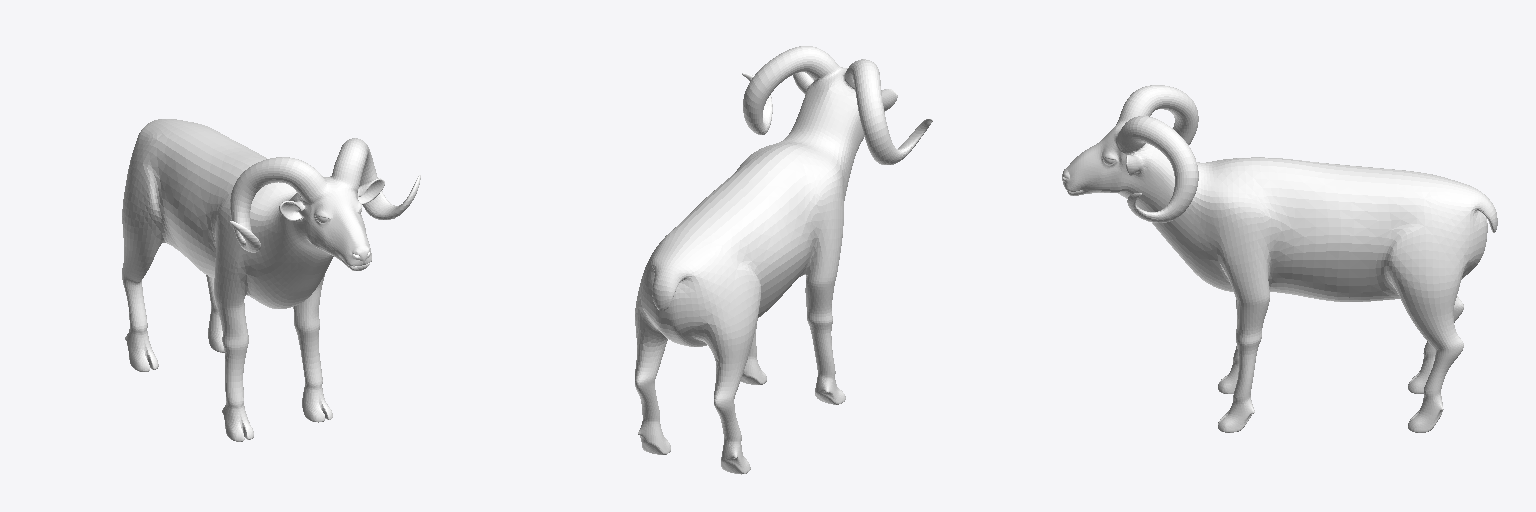
The model's file is sheep.obj.
The picture shows the model from 3 angles: view 1: azimuth 30°, elevation 25°; view 2: azimuth 150°, elevation 25°; view 3: azimuth 270°, elevation 25°; orthographic projection.
Parts seen in each view (by area): view 1: 13574_Marco_Polo_Sheep_v1_L3; view 2: 13574_Marco_Polo_Sheep_v1_L3; view 3: 13574_Marco_Polo_Sheep_v1_L3.
Boxes of the visible parts, box(x1,y1,x2,y2) form: 13574_Marco_Polo_Sheep_v1_L3: box(122, 119, 420, 441); 13574_Marco_Polo_Sheep_v1_L3: box(635, 46, 932, 474); 13574_Marco_Polo_Sheep_v1_L3: box(1062, 85, 1497, 432).
Bounding box in the file's own units: 3.26 × 5 × 6.45.